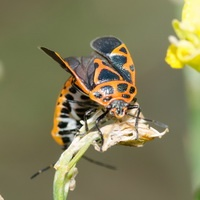insect: (41, 36, 168, 199)
